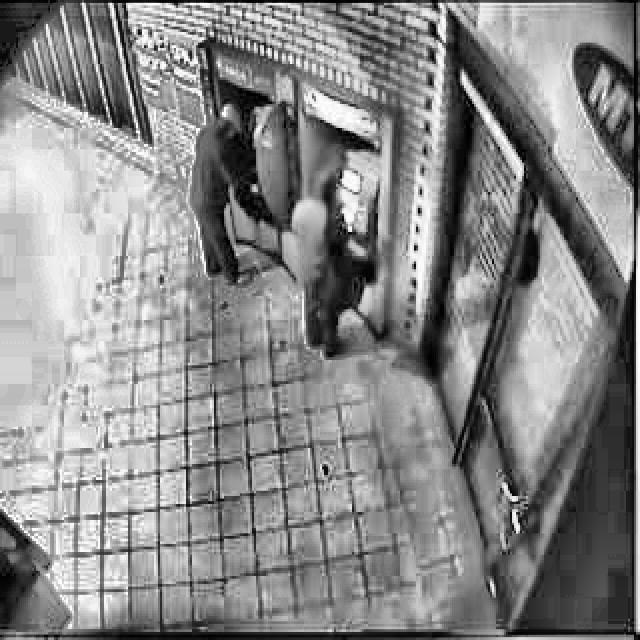burglary: (184, 88, 386, 362)
